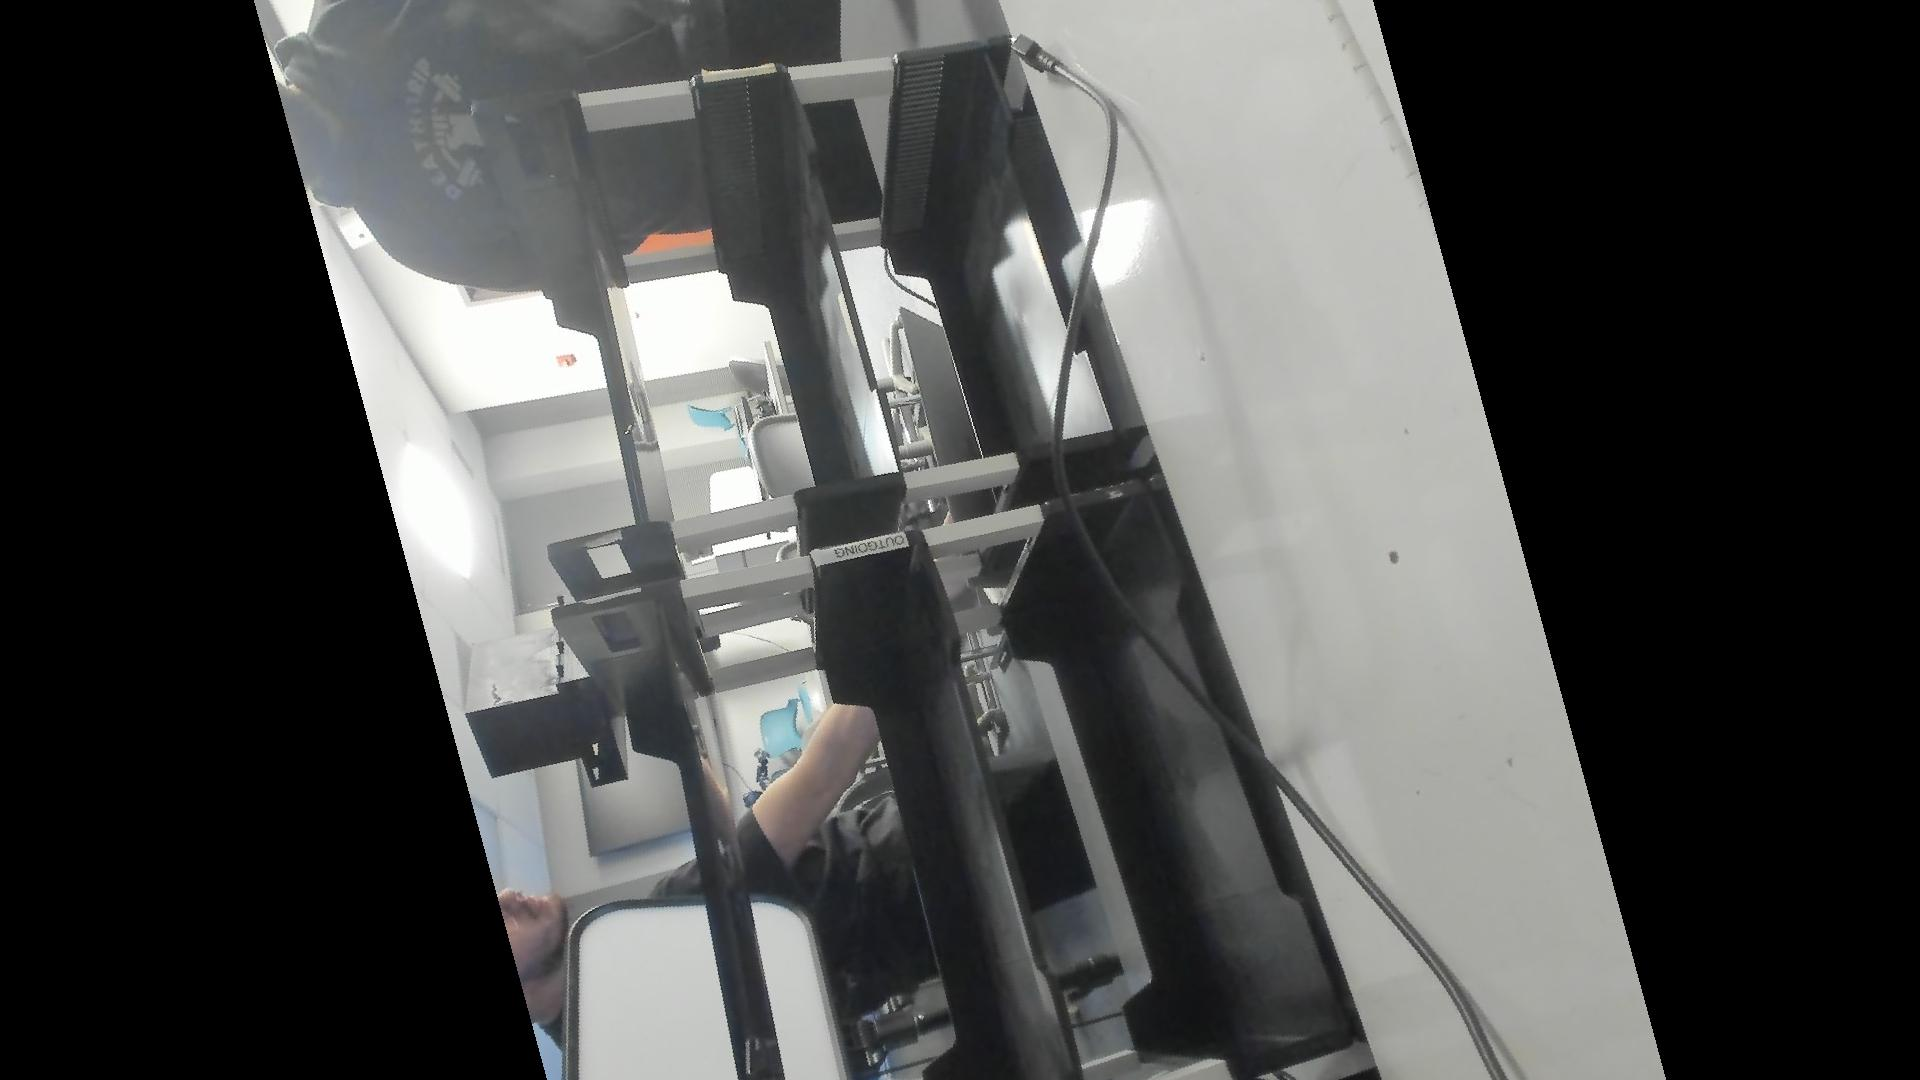black pallet: (459, 616, 640, 791)
